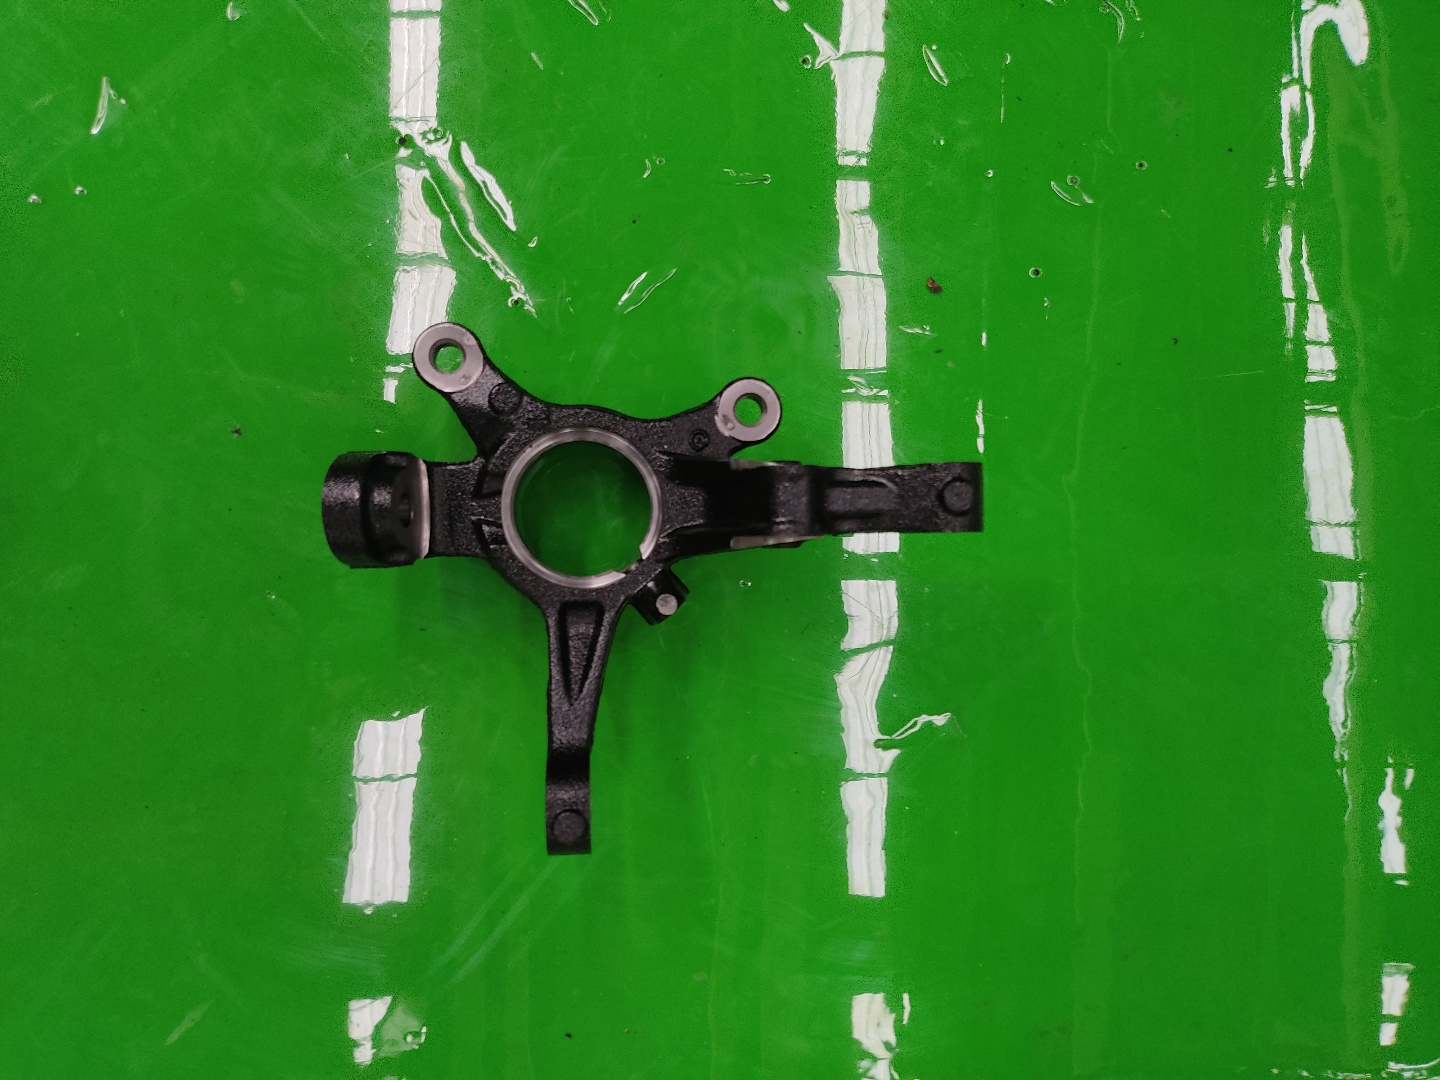abs-rh: (300, 299, 1008, 870)
